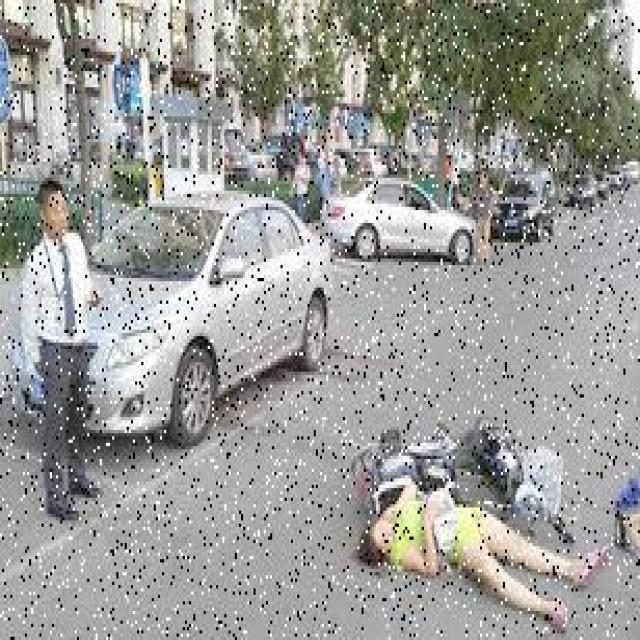fall: (370, 485, 598, 617)
